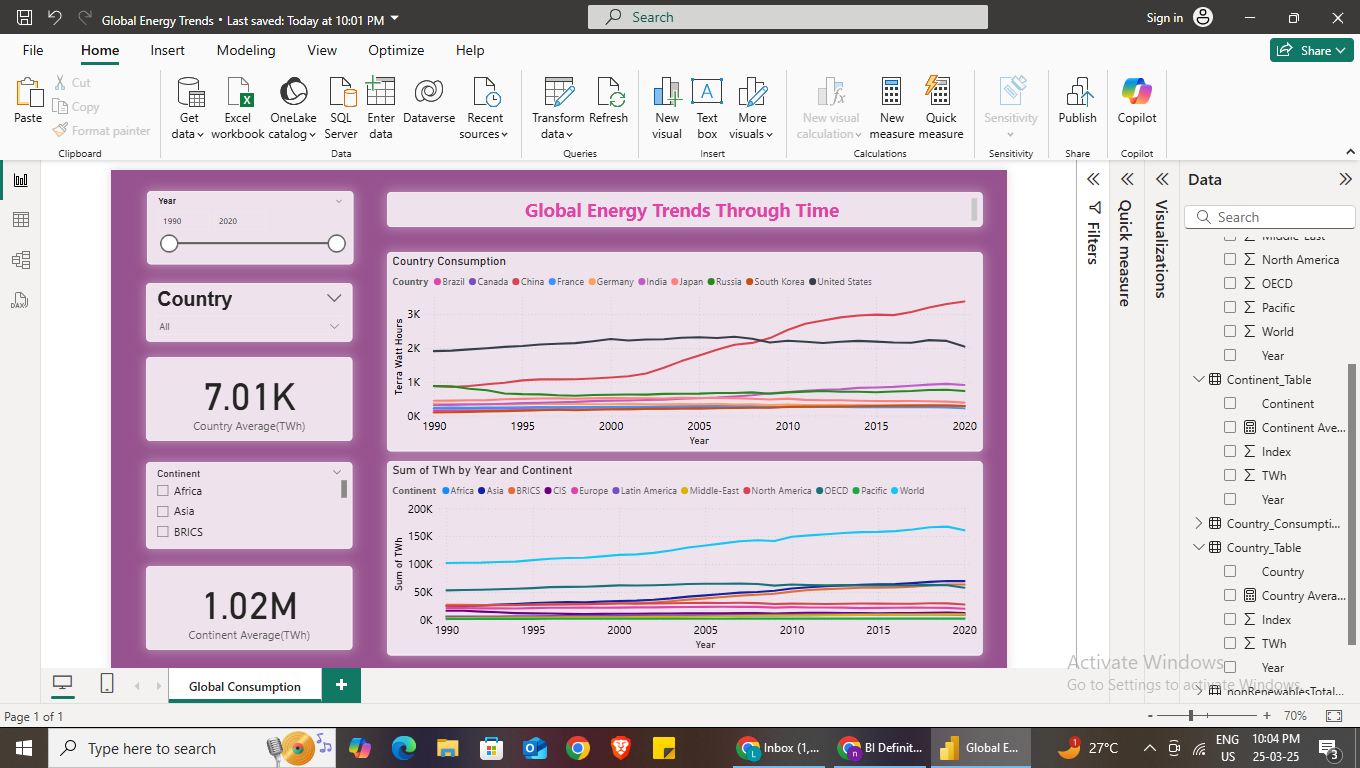

This screenshot's page, from the dashboard's own definition file:
{"tool":"powerbi","page":{"name":"Global Consumption","canvas":[1280,720],"ordinal":0},"visuals":[{"type":"textbox","box":[394.5,31.7,850.9,50.4],"z":0},{"type":"slicer","fields":{"Values":["Country_Consumption_TWH.Year"]},"box":[51,29.8,294.8,104.9],"z":1000},{"type":"lineChart","title":"Country Consumption","fields":{"Category":["Country_Consumption_TWH.Year"],"Y":["Country_Table.TWh"],"Series":["Country_Table.Country"]},"box":[394.5,116.6,850.9,285.1],"z":2000},{"type":"slicer","fields":{"Values":["Country_Table.Country"]},"box":[50.4,161.3,295.2,83.5],"z":3000},{"type":"card","fields":{"Values":["Country_Table.Country Average(TWh)"]},"box":[50.4,267.8,295.2,119.5],"z":4000},{"type":"lineChart","fields":{"Y":["Continent_Table.TWh"],"Category":["Continent_Consumption_TWH.Year"],"Series":["Continent_Table.Continent"]},"box":[394.5,416.1,850.9,277.9],"z":5000},{"type":"slicer","fields":{"Values":["Continent_Table.Continent"]},"box":[50.4,417.5,295.2,123.8],"z":6000},{"type":"card","fields":{"Values":["Continent_Table.Continent Average(TWh)"]},"box":[50.4,565.8,295.2,119.5],"z":7000}]}

Visuals, with their boxes on the page's 1280x720 design canvas (x1, y1, x2, y2). These are canvas units, not pixel positions in the 1360x768 screenshot, which may show the page scaled, cropped or inside an application window:
textbox: box=[394, 32, 1245, 82]
slicer - Country_Consumption_TWH.Year: box=[51, 30, 346, 135]
"Country Consumption" lineChart: box=[394, 117, 1245, 402]
slicer - Country_Table.Country: box=[50, 161, 346, 245]
card - Country_Table.Country Average(TWh): box=[50, 268, 346, 387]
lineChart - Continent_Table.TWh x Continent_Consumption_TWH.Year: box=[394, 416, 1245, 694]
slicer - Continent_Table.Continent: box=[50, 418, 346, 541]
card - Continent_Table.Continent Average(TWh): box=[50, 566, 346, 685]
